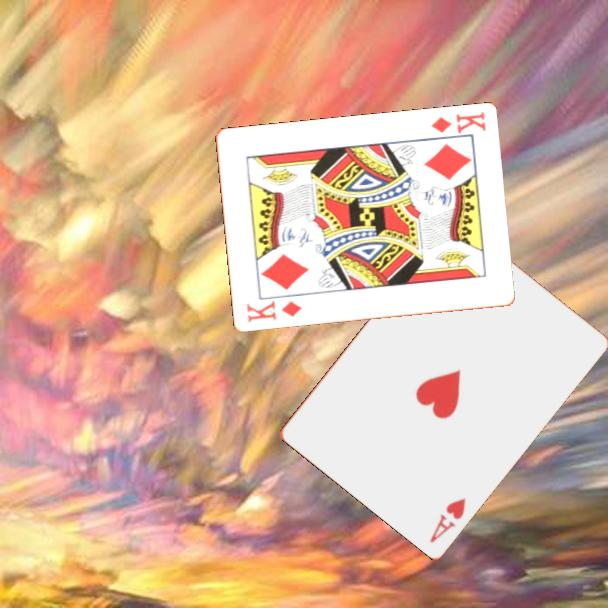d13: (243, 298, 304, 326), (427, 109, 488, 137)
h01: (426, 494, 469, 545)
